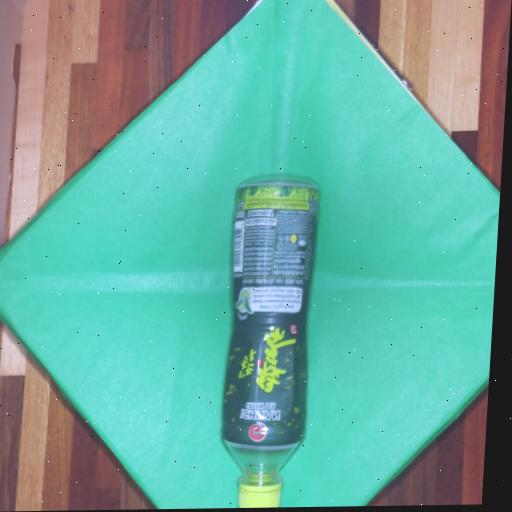bottle: (222, 180, 317, 507)
